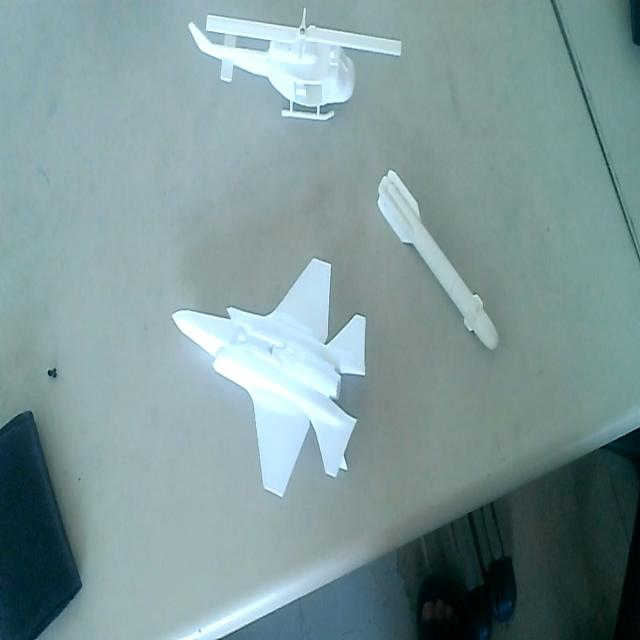Helicopter: (185, 7, 403, 123)
Jet: (174, 254, 366, 498)
Rocket: (376, 162, 499, 358)
